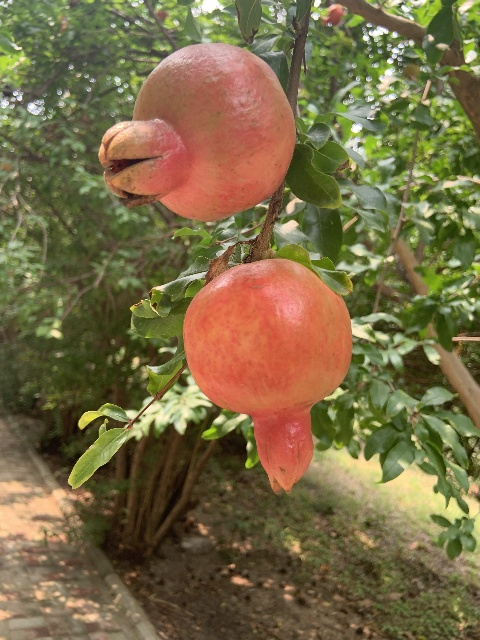mid-growth: (402, 63, 420, 81)
ripe: (182, 256, 355, 493), (99, 43, 295, 221), (320, 3, 345, 27)
